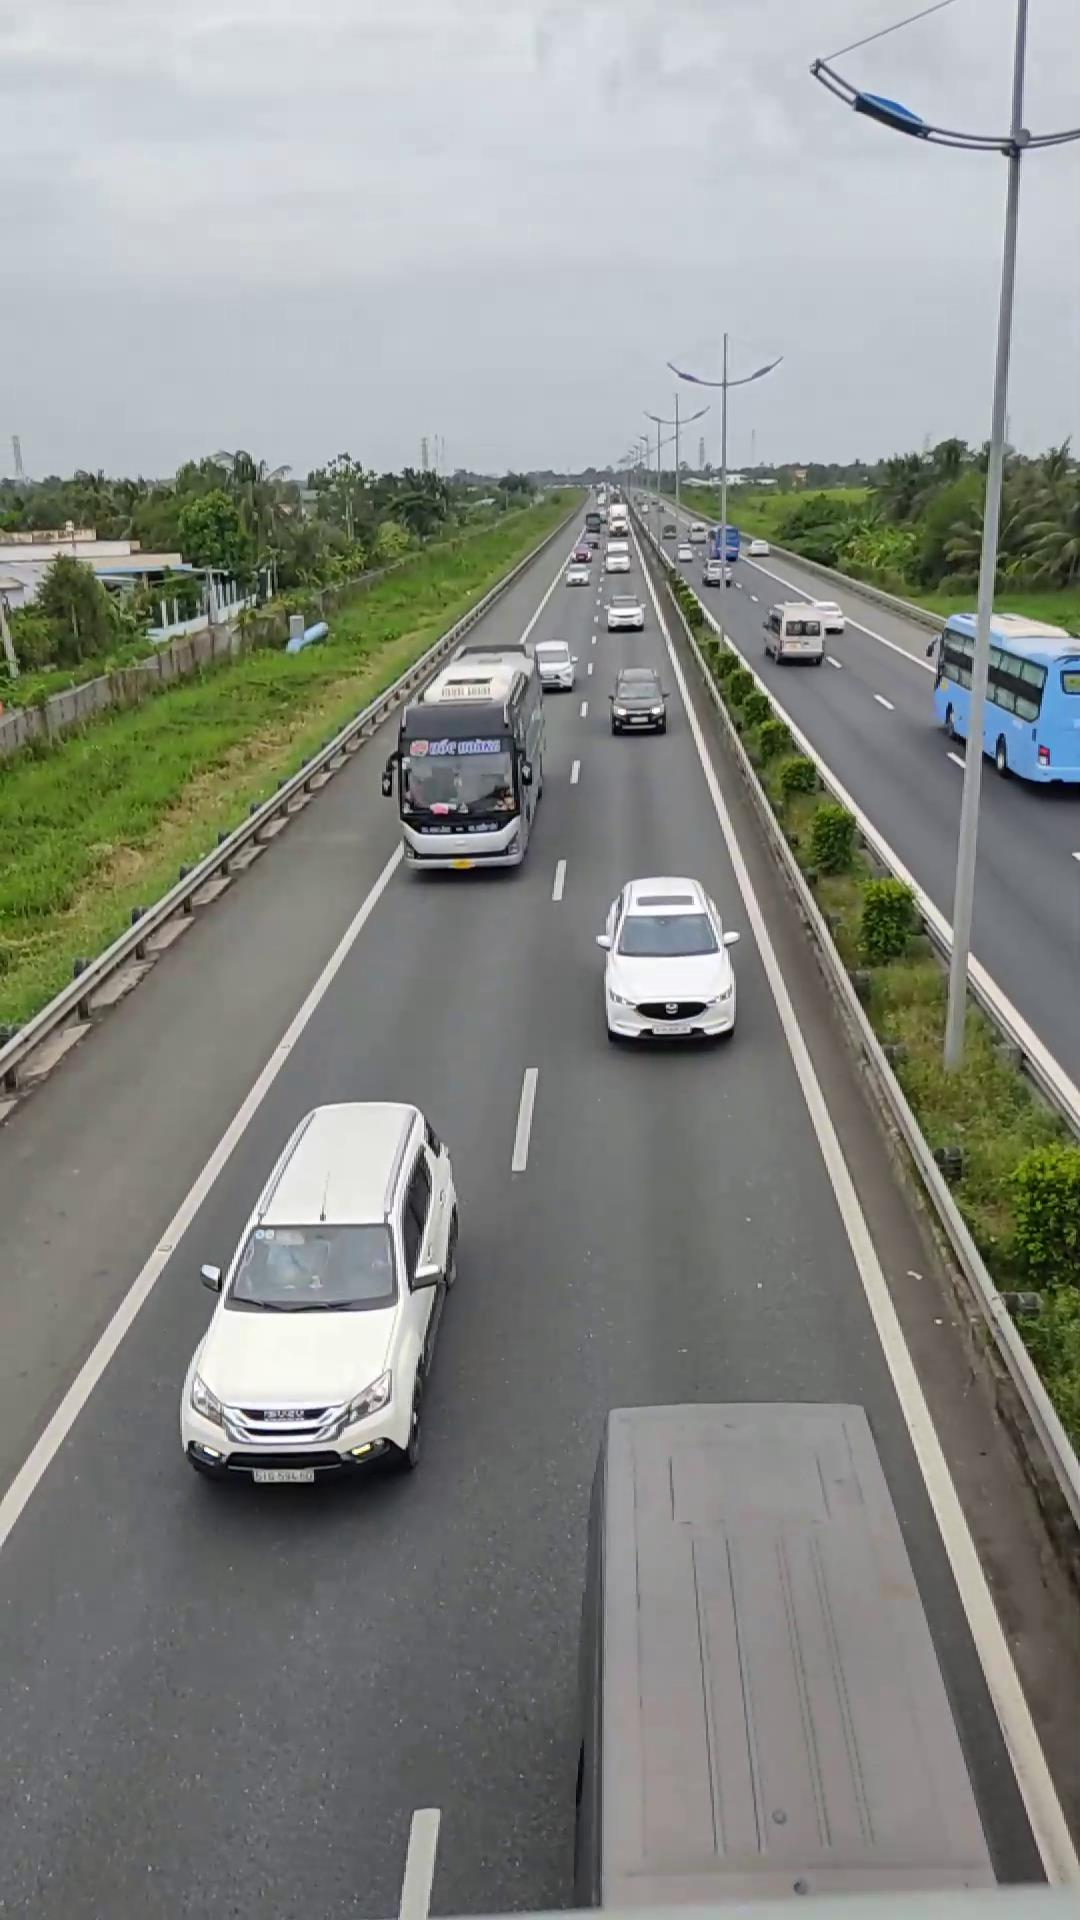bus: (386, 645, 545, 873)
car: (576, 1393, 1002, 1878), (177, 1096, 463, 1486), (595, 876, 740, 1047), (607, 669, 670, 733)
